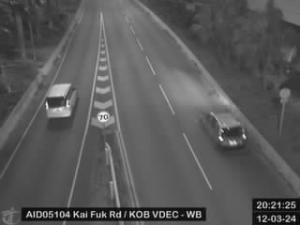vehicle: (198, 112, 248, 150), (45, 82, 77, 120)
